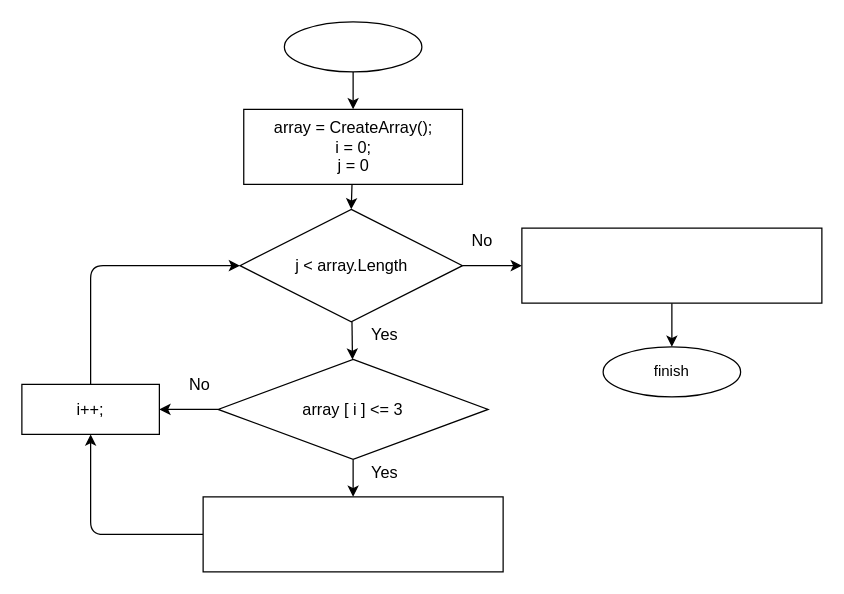
This 844x594 diagram has some shape labels left out. The shapes that lost their labels are listed below. From the top down, each one's box as (x1, y1, x2, y2) in pixels, then its label:
(283, 21, 422, 72): start
(521, 227, 822, 303): Console.WriteLine(ThreeSymbols)
(202, 496, 503, 572): ThreeSymbols [ j ] = array [ i ]; j++
